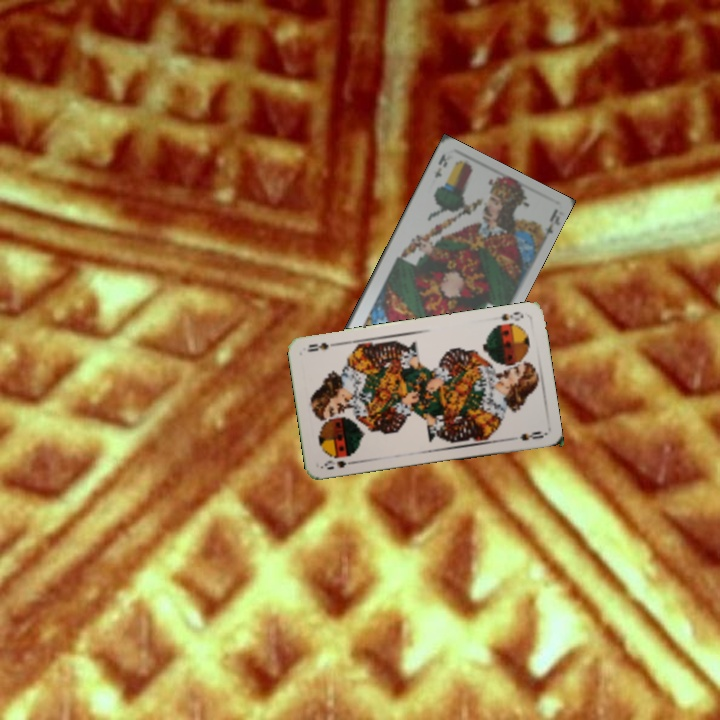EK: (430, 150, 450, 180)
SO: (320, 456, 360, 472), (497, 307, 526, 324)
